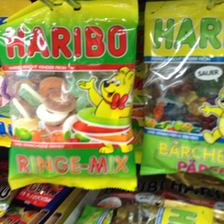candy: (4, 2, 144, 194), (138, 1, 224, 178)
